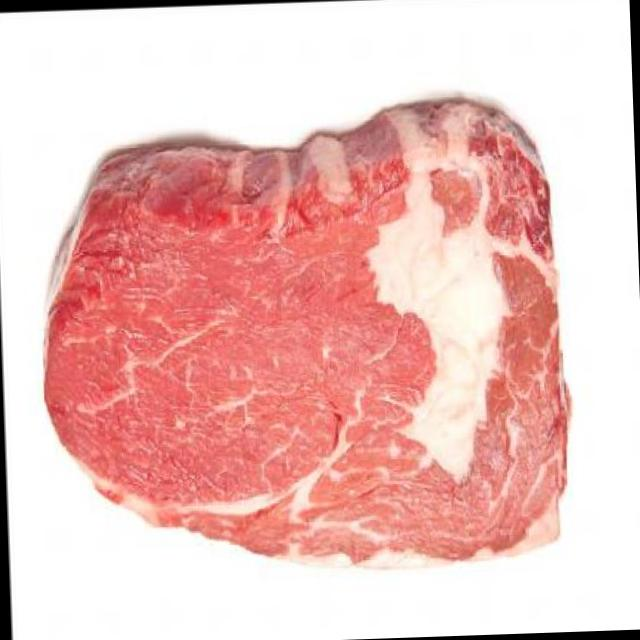beef: (29, 93, 578, 582)
